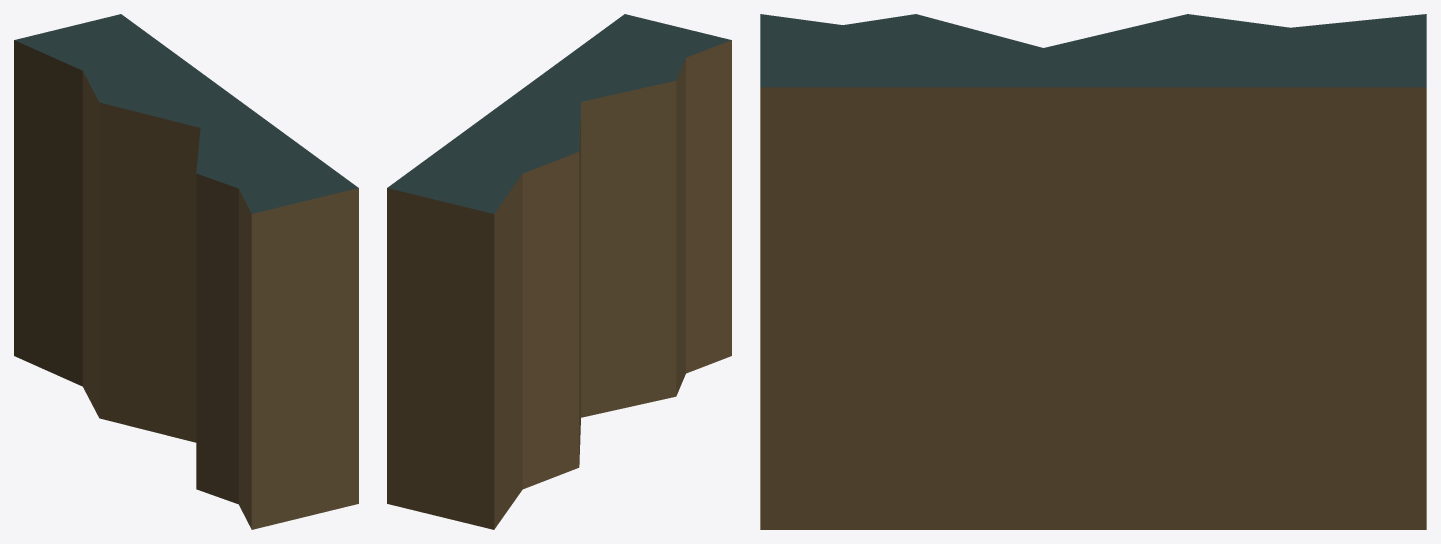
The model's file is Brown_Cliff_Green_Top_01.obj.
The picture shows the model from 3 angles, left to right: view 1: azimuth 30°, elevation 25°; view 2: azimuth 150°, elevation 25°; view 3: azimuth 270°, elevation 25°; orthographic projection. The views are drawn at different scales.
Visible parts, largest first — view 1: Mesh1_Brown_Cliff_Green_Top_Model; view 2: Mesh1_Brown_Cliff_Green_Top_Model; view 3: Mesh1_Brown_Cliff_Green_Top_Model.
Part boxes in pixels (box(x1,y1,x2,y2)): Mesh1_Brown_Cliff_Green_Top_Model: box(14, 14, 358, 529); Mesh1_Brown_Cliff_Green_Top_Model: box(387, 14, 731, 529); Mesh1_Brown_Cliff_Green_Top_Model: box(760, 14, 1426, 529).
Bounding box in the file's own units: 0.78 × 2.2 × 3.
